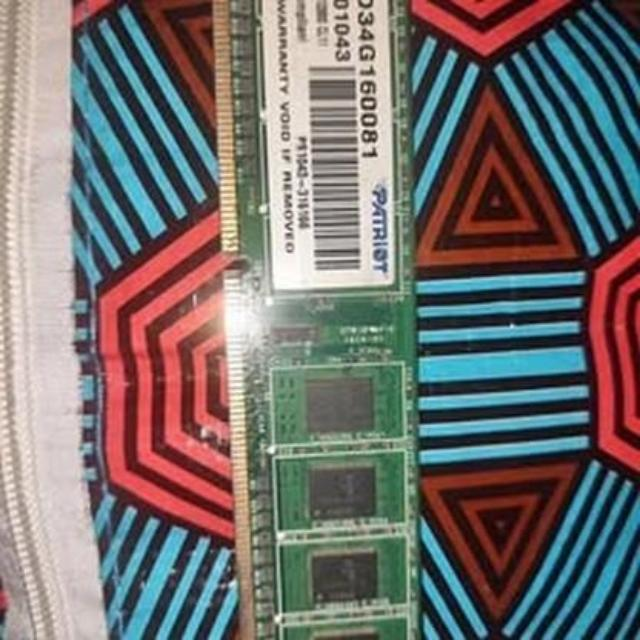RAM: (216, 0, 432, 640)
